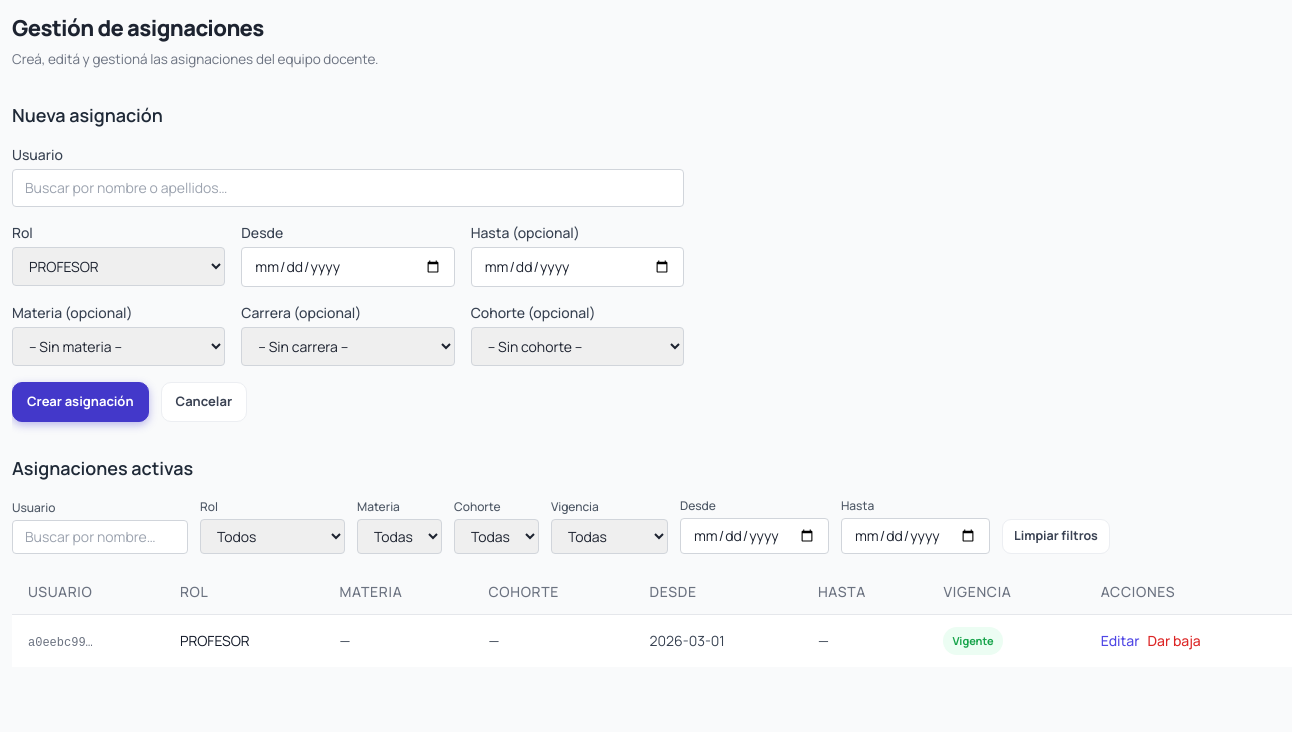
Test: AsignacionesPage › switches to edit mode when Editar is clicked on a row
The image size is (1292, 732).
Expected: the element with test id "asignaciones-table" is shown, [12,570,1291,667]
Click the button with test id "btn-editar-asgn-1": (1120, 641) [1101,631,1140,651]
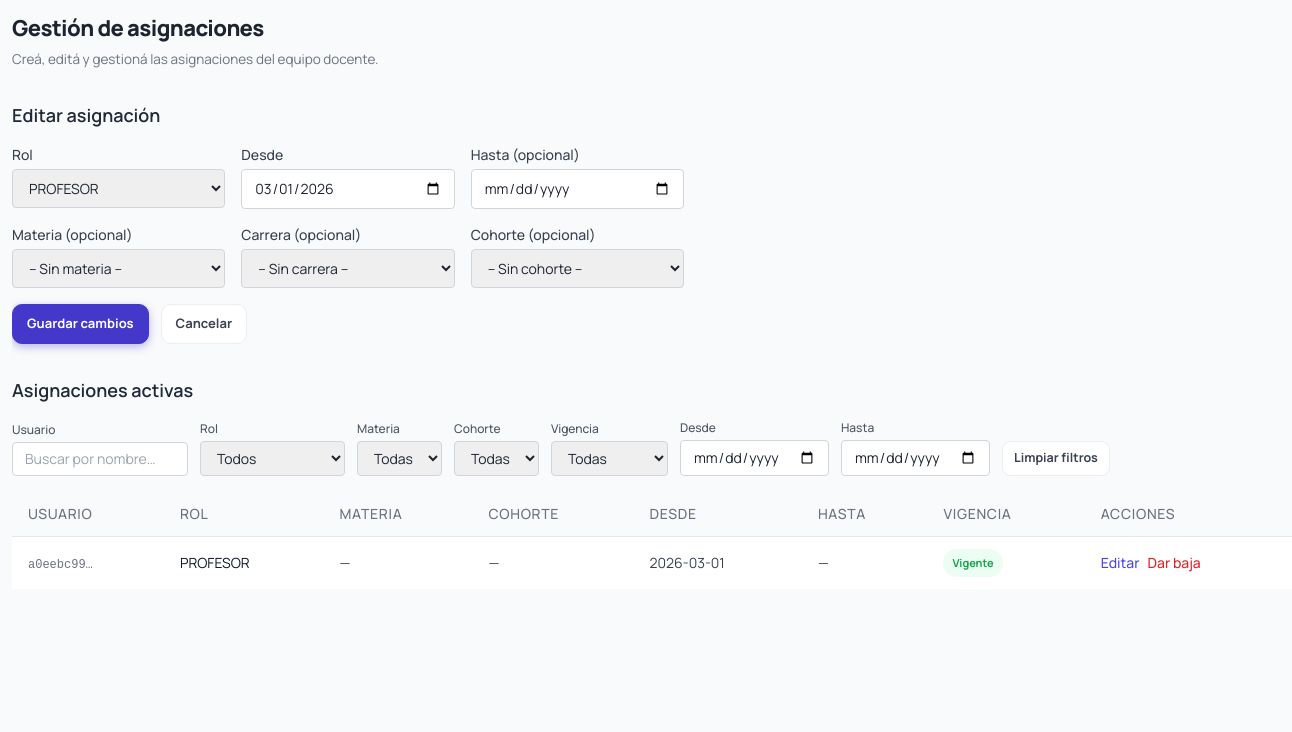
Expected: the field with test id "usuario-combobox-input" is gone
Expected: the button with test id "asgn-submit" reads "Guardar cambios", [12,304,149,344]
